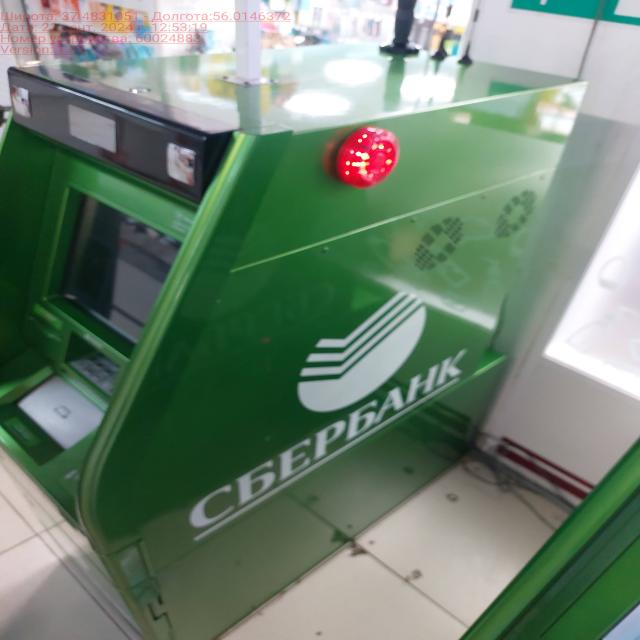bank: (0, 47, 585, 632)
